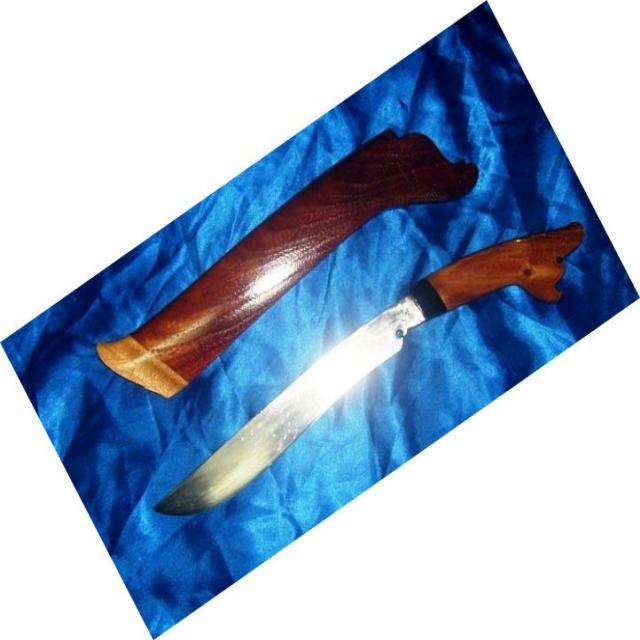Pisau: (150, 208, 592, 515)
